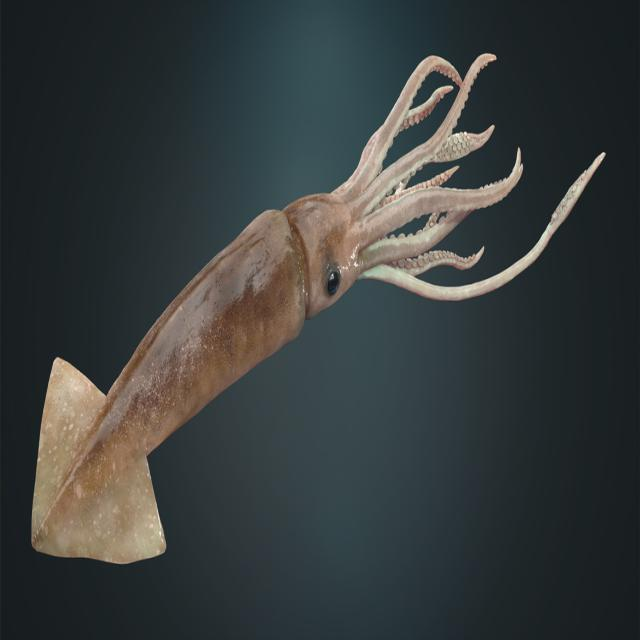SQUID: (27, 34, 619, 590)
